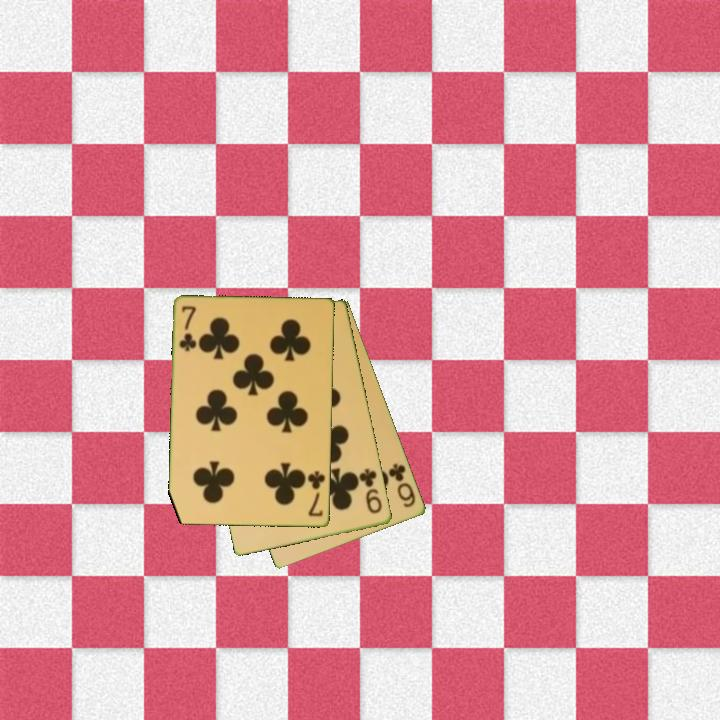6c: (385, 460, 419, 511)
7c: (304, 468, 328, 519), (176, 303, 199, 354)
9c: (356, 465, 385, 517)
